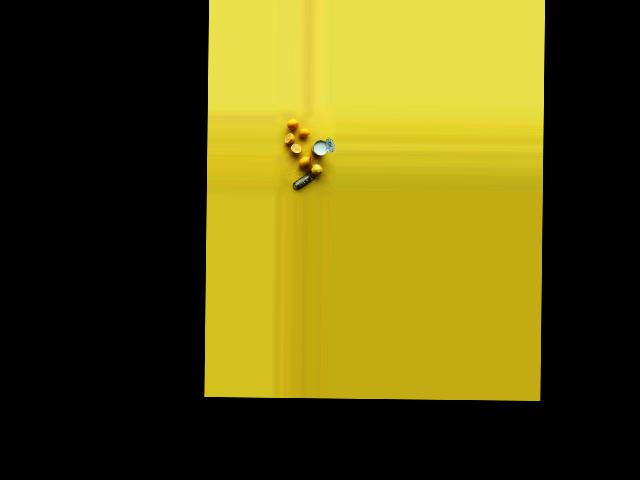lemon: (309, 162, 323, 174)
